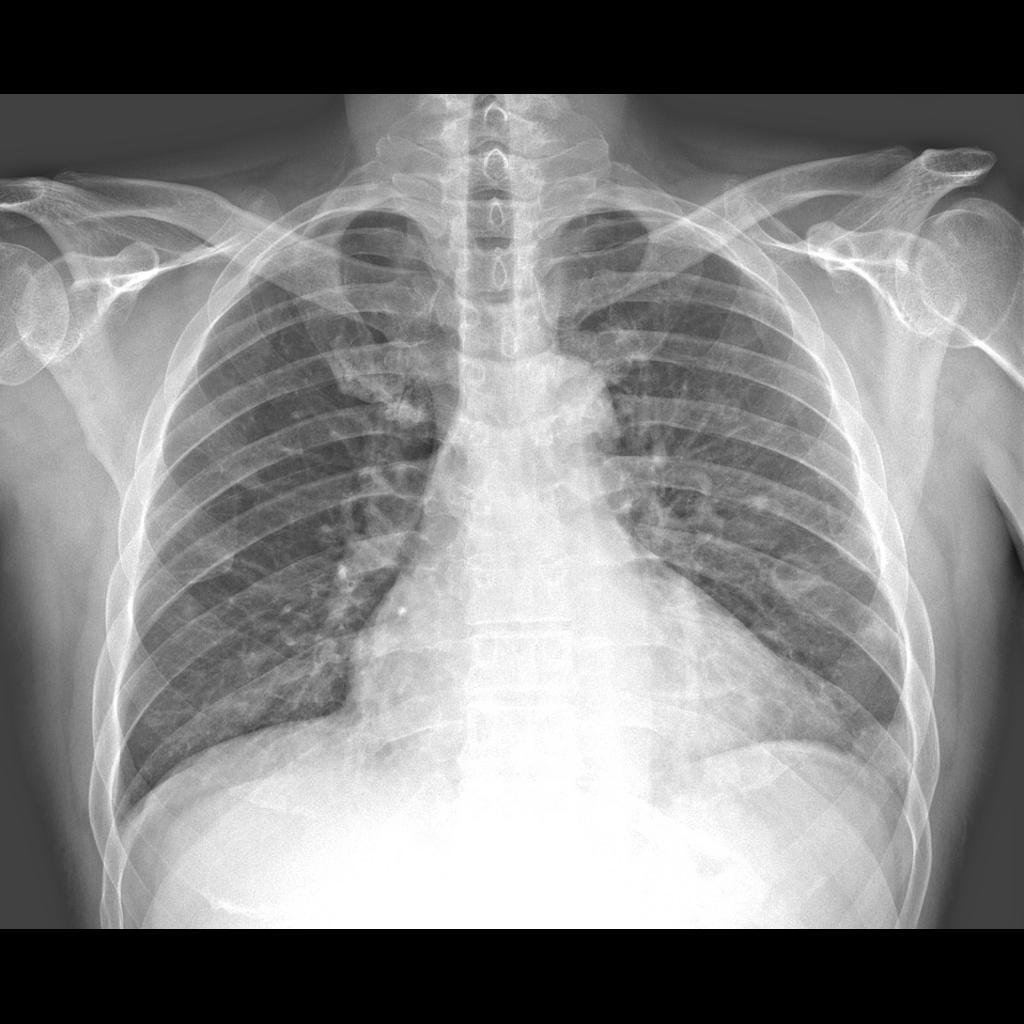Nodule: (833, 705, 926, 786), (765, 545, 826, 612), (373, 386, 439, 437)
